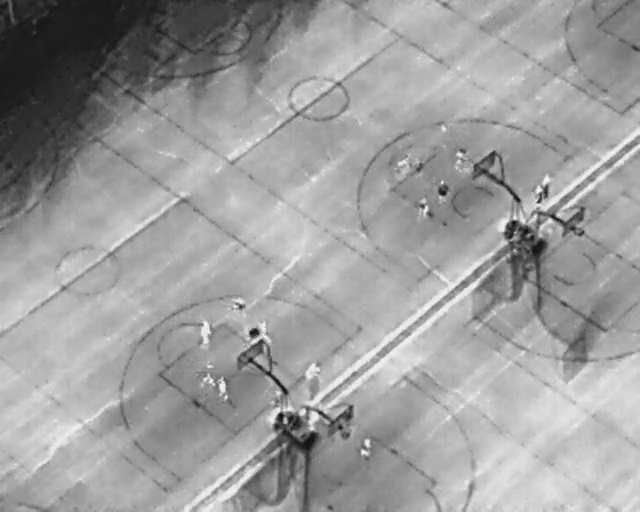Person: (201, 363, 214, 388), (306, 405, 318, 430), (201, 321, 211, 345), (361, 433, 371, 457), (438, 179, 448, 202), (217, 373, 226, 397), (542, 172, 552, 193), (457, 148, 466, 171), (419, 196, 428, 217), (535, 182, 544, 202)
